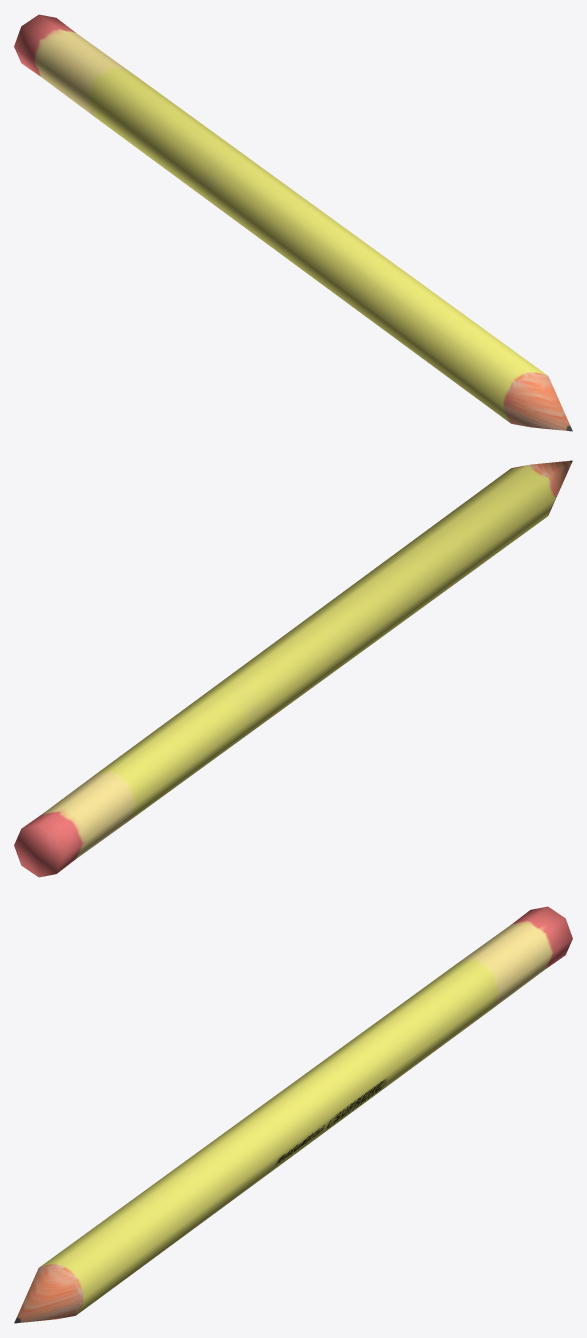
The picture shows the model from 3 angles, top to bottom: view 1: azimuth 30°, elevation 25°; view 2: azimuth 150°, elevation 25°; view 3: azimuth 330°, elevation 25°; orthographic projection.
Parts seen in each view (by area): view 1: Geode; view 2: Geode; view 3: Geode.
Part boxes in pixels (bbox=[...]): Geode: bbox=[14, 14, 572, 431]; Geode: bbox=[14, 460, 572, 877]; Geode: bbox=[14, 906, 572, 1323].
Bounding box in the file's own units: 0.9282 × 0.9282 × 16.34.
Materials: 1 (1 with a texture image).
